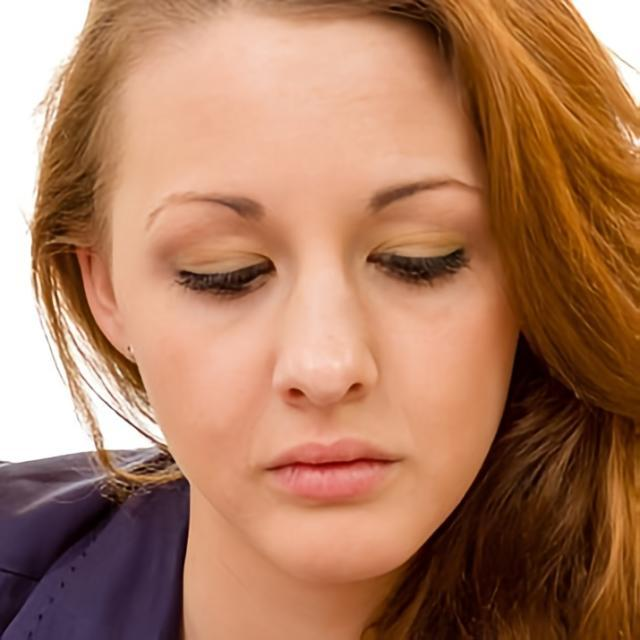sad: (111, 0, 534, 586)
